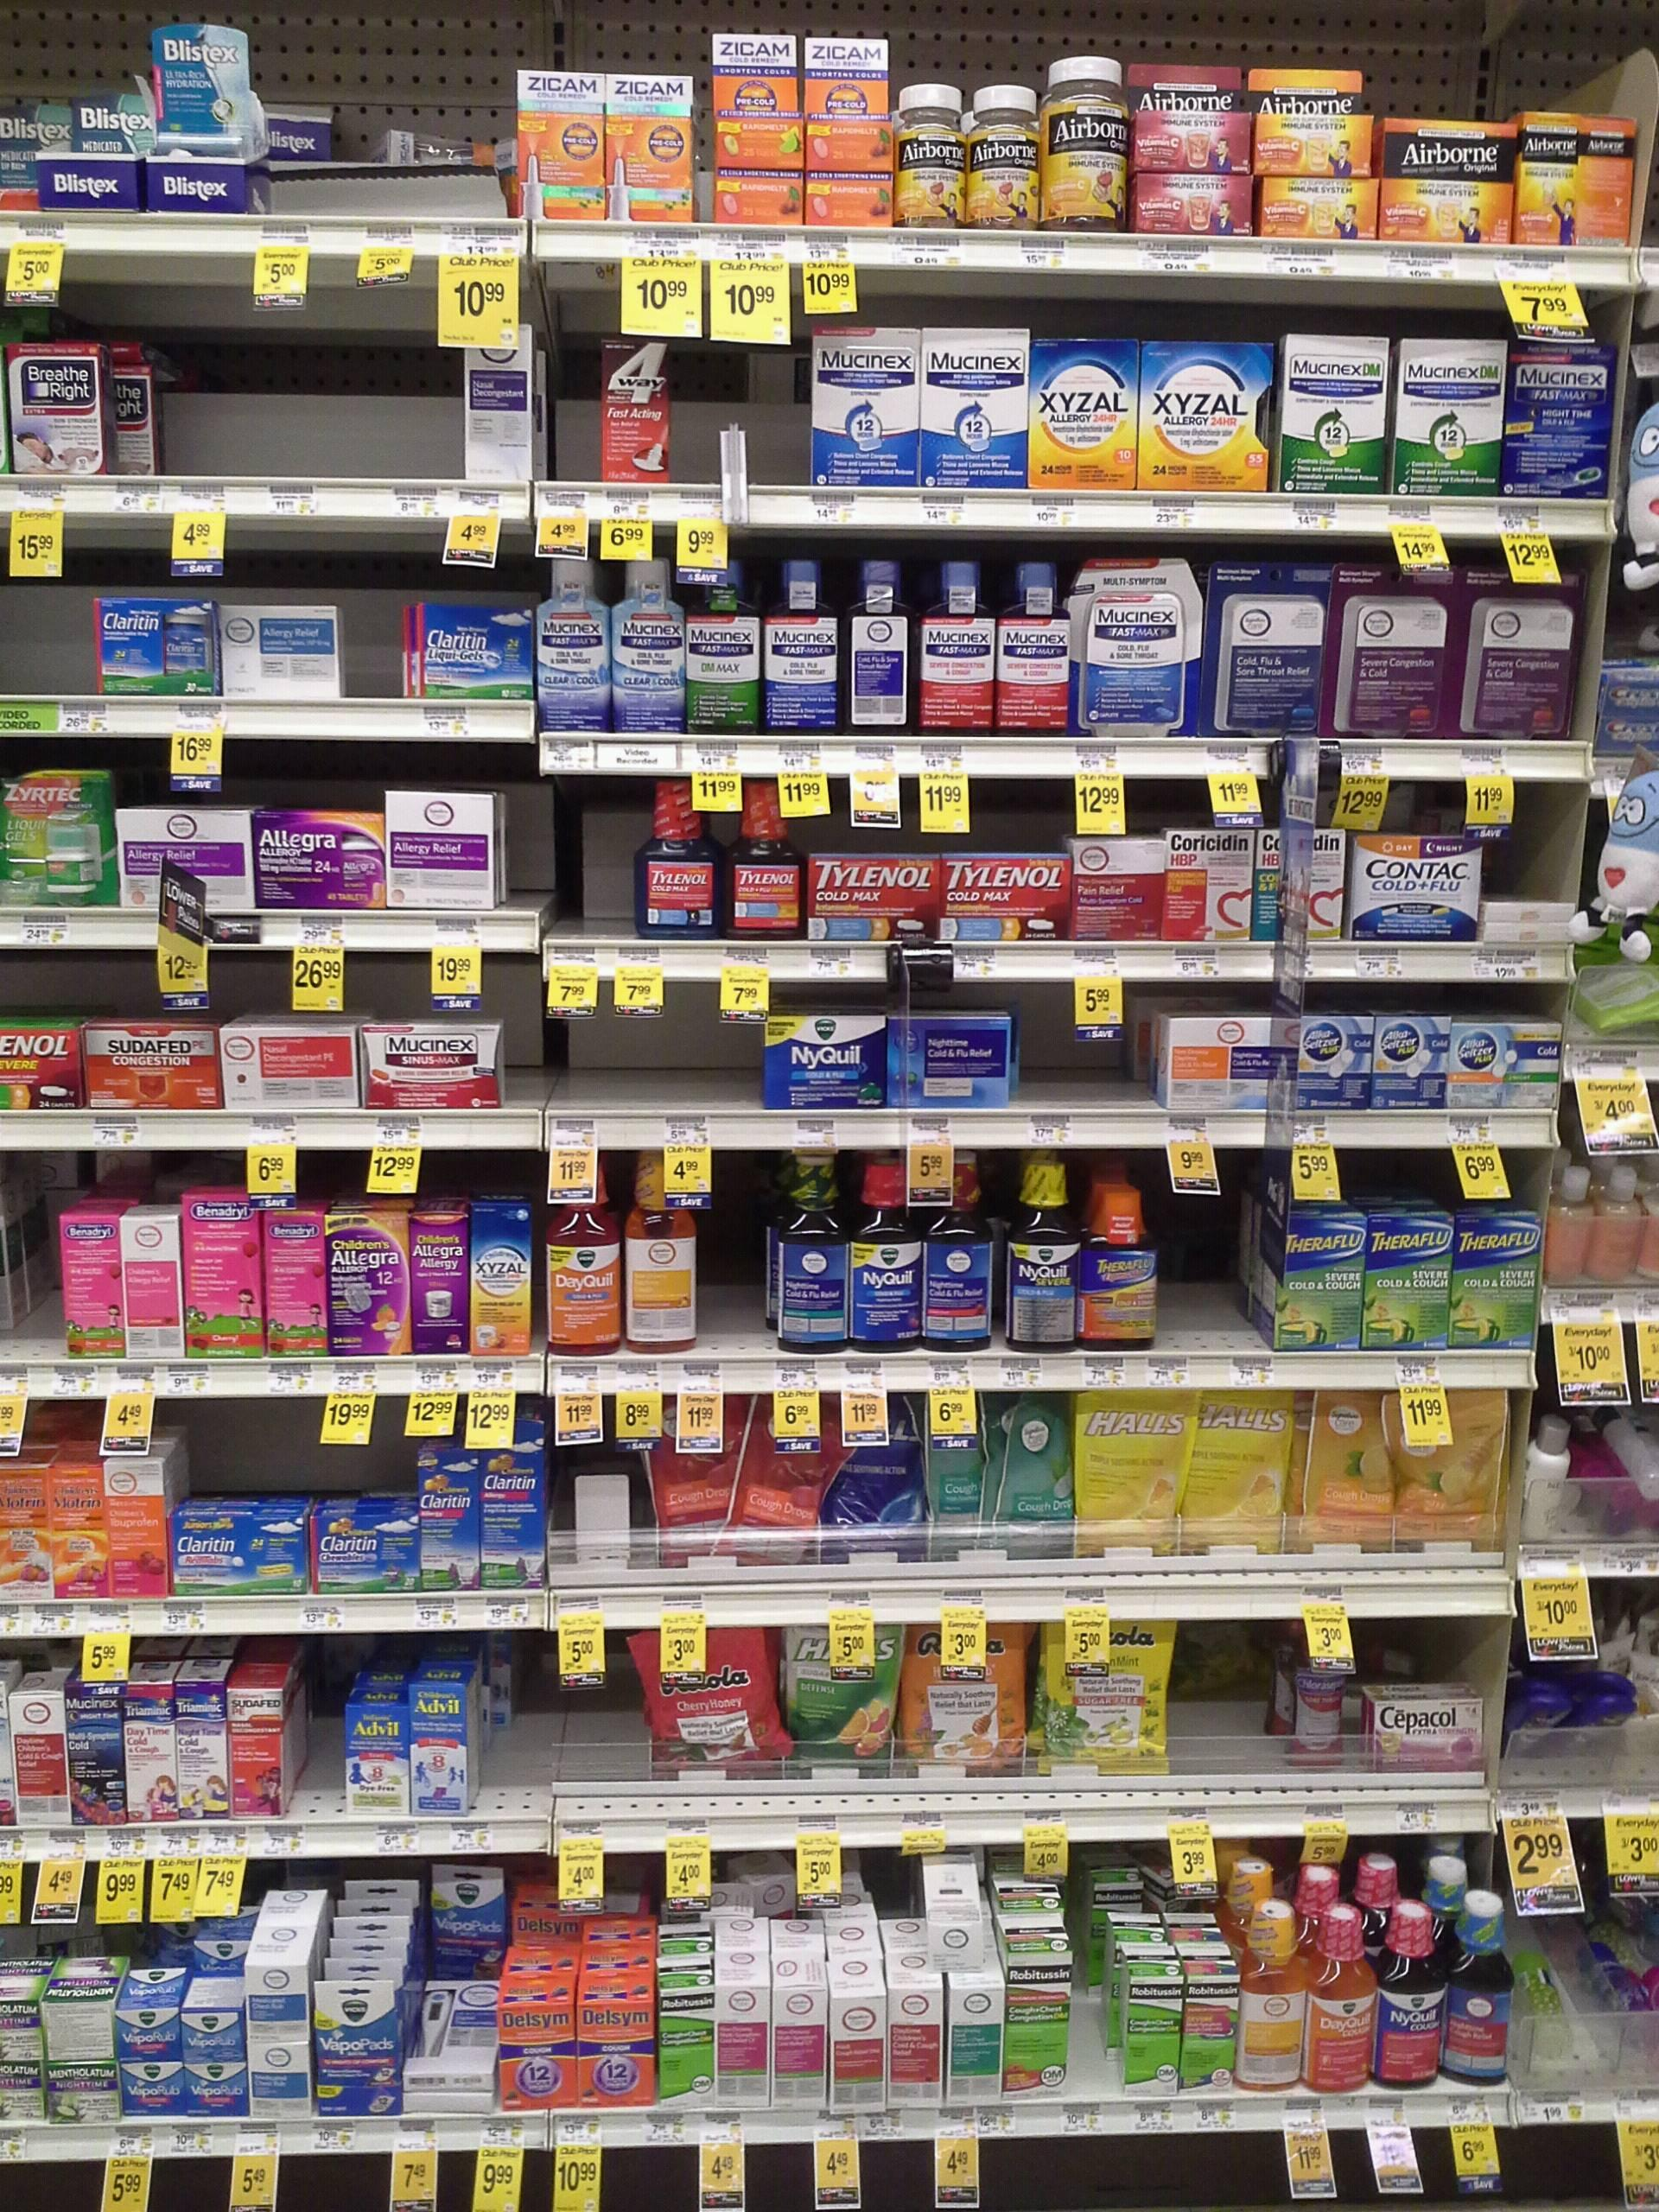empty: (263, 354, 467, 479), (681, 366, 802, 486), (152, 359, 263, 481), (1173, 1658, 1284, 1778), (622, 1017, 742, 1115), (1154, 1237, 1260, 1345), (0, 585, 91, 702), (697, 1223, 774, 1359), (472, 1676, 549, 1811), (528, 364, 608, 482), (1028, 1035, 1150, 1109), (519, 1015, 608, 1113), (293, 1679, 349, 1824), (338, 585, 410, 693)
